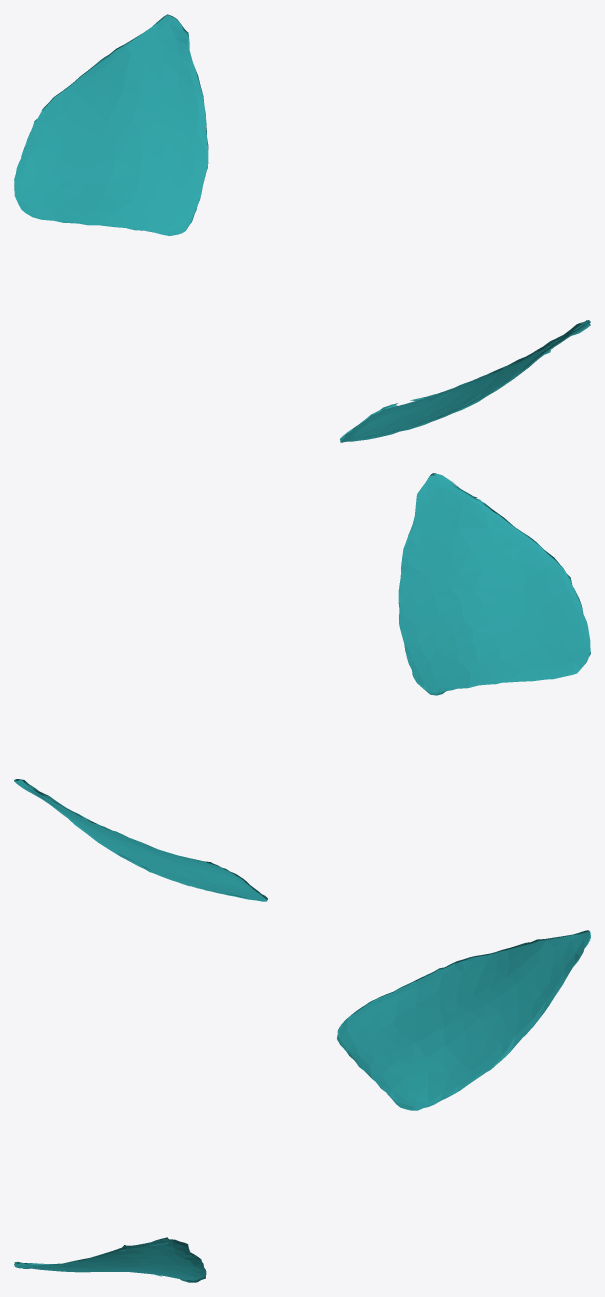
3 views of the same model, one above another, from view 1: azimuth 30°, elevation 25°; view 2: azimuth 150°, elevation 25°; view 3: azimuth 330°, elevation 25° (orthographic).
Parts seen in each view (by area): view 1: 305.obj; view 2: 305.obj; view 3: 305.obj.
Boxes of the visible parts, x1,y1,x2,y2 form: 305.obj: [14, 14, 590, 442]; 305.obj: [14, 473, 590, 901]; 305.obj: [14, 930, 590, 1282].
Size of the model in its own units: 1715 by 1062 by 6122.
